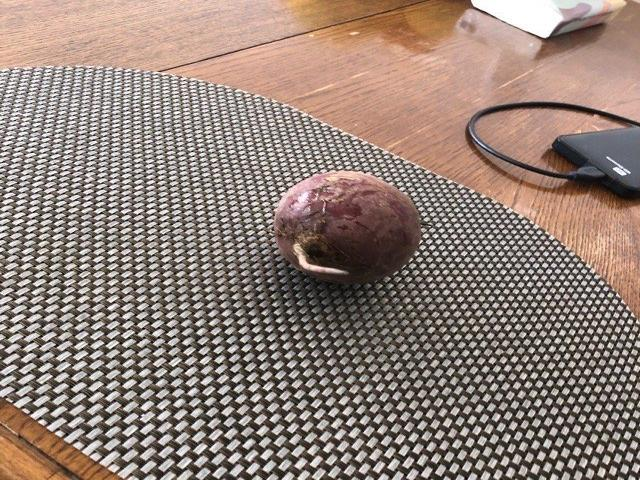beet: (274, 171, 421, 283)
